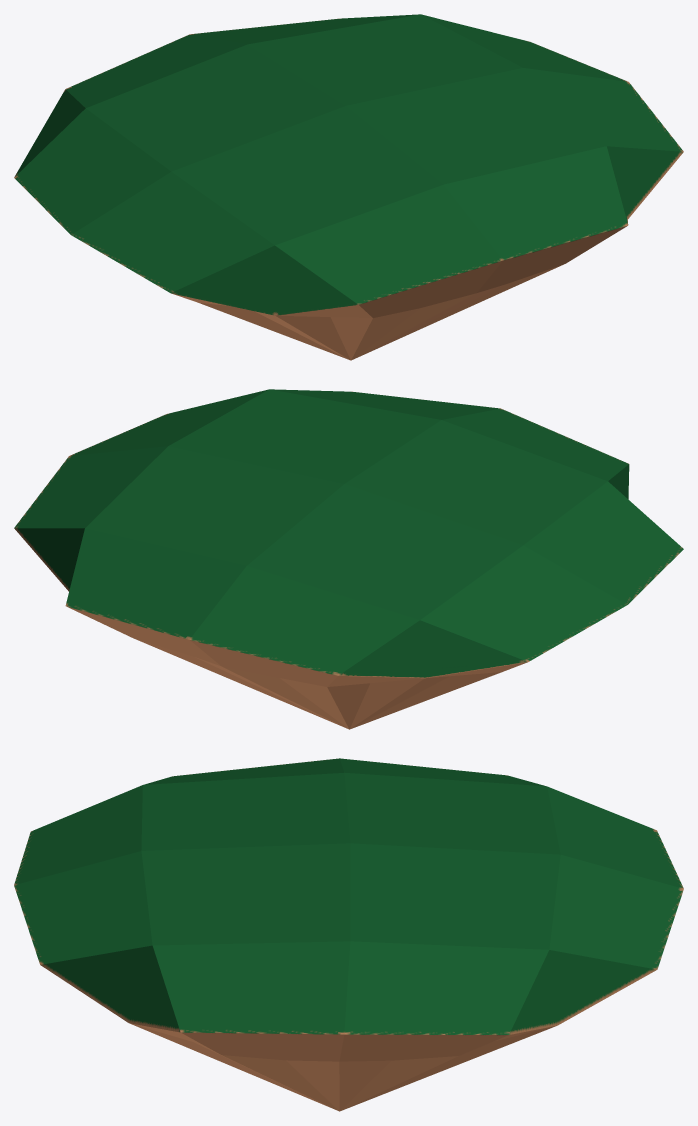
File: island.fbx
3 views of the same model, one above another, from view 1: azimuth 30°, elevation 25°; view 2: azimuth 150°, elevation 25°; view 3: azimuth 270°, elevation 25° (orthographic). The views are drawn at different scales.
Parts seen in each view (by area): view 1: node_id4; view 2: node_id4; view 3: node_id4.
Boxes of the visible parts, box(x1,y1,x2,y2) form: node_id4: box(14, 14, 683, 360); node_id4: box(14, 389, 683, 729); node_id4: box(14, 758, 683, 1111).
Size of the model in its own units: 0.512 by 0.2193 by 0.4964.
Materials: 1 (1 with a texture image).
